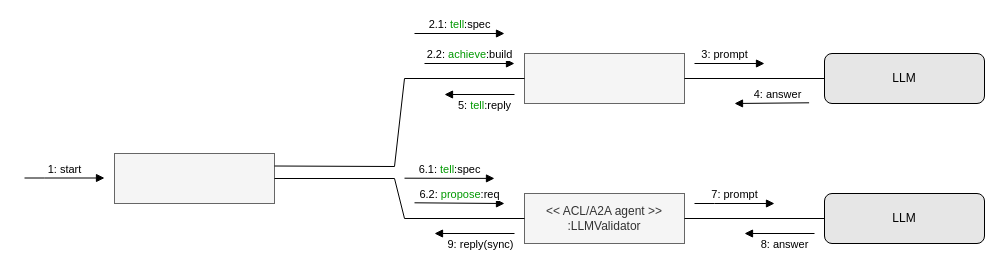
Image size: 1002x267. Some labels were removed from this diagram. The centre of each missing label's shape, as x and y in pixels:
<< AgentSpeak agent >> :LLMRequirementGenerator: the point at 604,78
<< AgentSpeak agent >> :Manager: the point at 194,178
